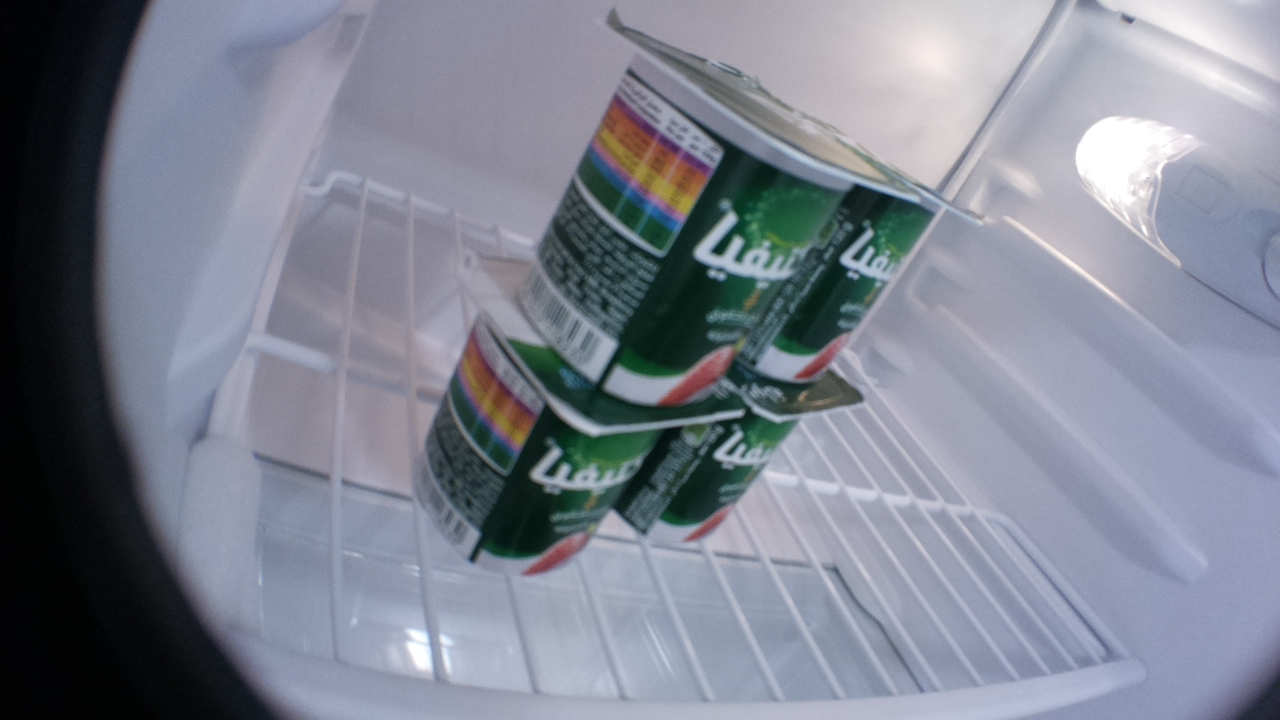yoghurt: (512, 4, 924, 408), (415, 255, 744, 579), (741, 115, 986, 387), (618, 365, 863, 551)
